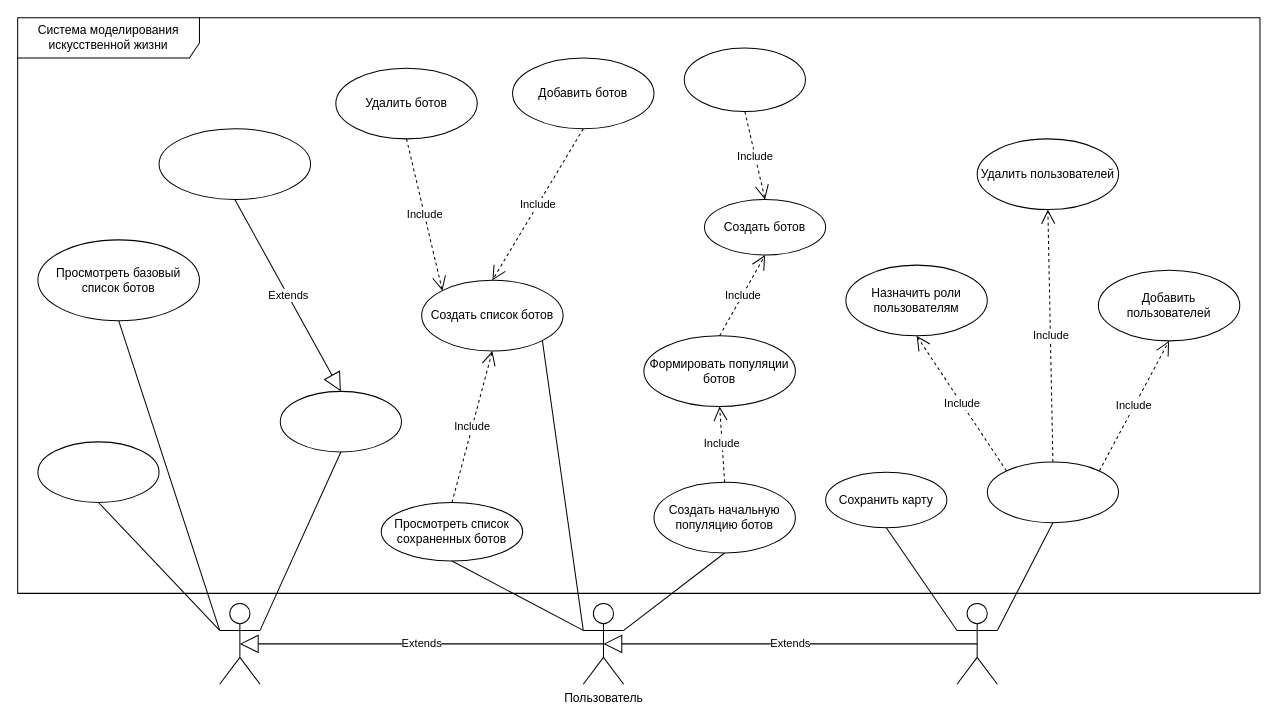
This 1278x723 diagram has some shape labels left out. The box of each missing label's shape, as (x1, y1, x2, y2) in pixels:
Администратор: (956, 602, 997, 684)
Войти в систему: (279, 390, 401, 452)
Выйти из системы: (37, 441, 159, 502)
Зарегистрироваться в системе: (158, 128, 311, 199)
Незарегистрированный пользователь: (219, 602, 260, 684)
Обучить ботов: (683, 47, 805, 112)
Просмотреть список пользователей: (986, 461, 1119, 523)
